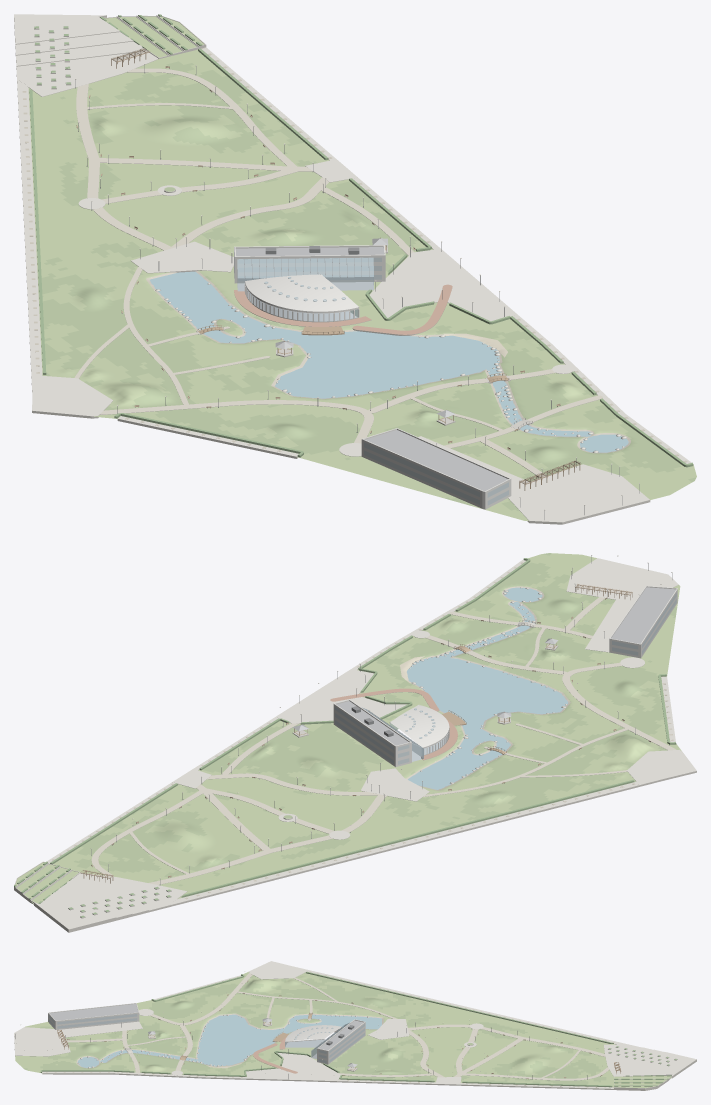
Rendered from heyuan.glb.
3 views of the same model, one above another, from view 1: azimuth 30°, elevation 25°; view 2: azimuth 150°, elevation 25°; view 3: azimuth 270°, elevation 25° (orthographic). The views are drawn at different scales.
Parts seen in each view (by area): view 1: terrain_lawn, hardscape, water, building_lakeside_hall, site_furniture, terrain_bank, pavilions_pergolas; view 2: terrain_lawn, hardscape, water, building_lakeside_hall, site_furniture, terrain_bank, pavilions_pergolas; view 3: terrain_lawn, hardscape, water, building_lakeside_hall, site_furniture, terrain_bank, pavilions_pergolas.
Boxes of the visible parts, left/top/right/bottom form: terrain_lawn: left=28, top=49, right=696, bottom=521; hardscape: left=14, top=14, right=691, bottom=524; water: left=150, top=271, right=628, bottom=452; building_lakeside_hall: left=234, top=245, right=511, bottom=509; site_furniture: left=22, top=26, right=693, bottom=519; terrain_bank: left=146, top=271, right=630, bottom=453; pavilions_pergolas: left=111, top=48, right=580, bottom=490; terrain_lawn: left=30, top=553, right=681, bottom=903; hardscape: left=14, top=558, right=696, bottom=932; water: left=407, top=587, right=568, bottom=789; building_lakeside_hall: left=333, top=586, right=677, bottom=766; site_furniture: left=50, top=555, right=676, bottom=918; terrain_bank: left=400, top=586, right=570, bottom=790; pavilions_pergolas: left=80, top=584, right=632, bottom=883; terrain_lawn: left=15, top=971, right=671, bottom=1087; hardscape: left=14, top=961, right=696, bottom=1090; water: left=77, top=1014, right=381, bottom=1067; building_lakeside_hall: left=48, top=1003, right=365, bottom=1064; site_furniture: left=15, top=971, right=677, bottom=1088; terrain_bank: left=76, top=1013, right=383, bottom=1068; pavilions_pergolas: left=57, top=1018, right=621, bottom=1073.
Size of the model in its own units: 240 by 14.05 by 538.
